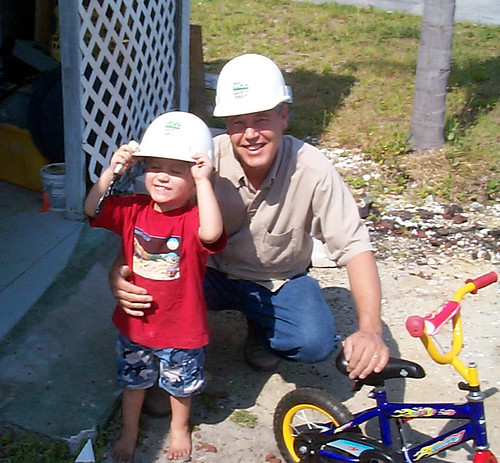person hardhat: (193, 52, 391, 378), (83, 109, 226, 462)
